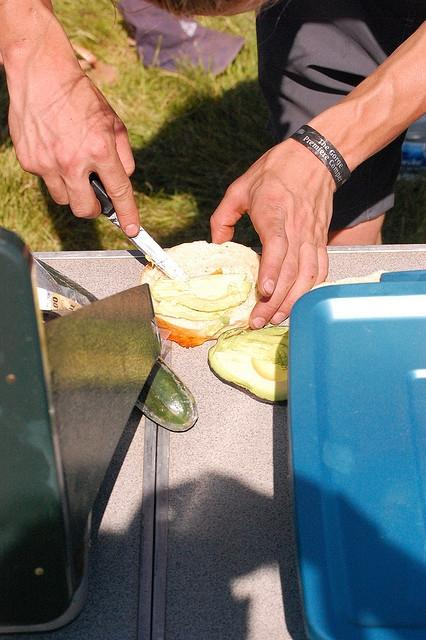avocado: (208, 326, 289, 402), (153, 272, 254, 310)
cucumber: (36, 260, 198, 432)
